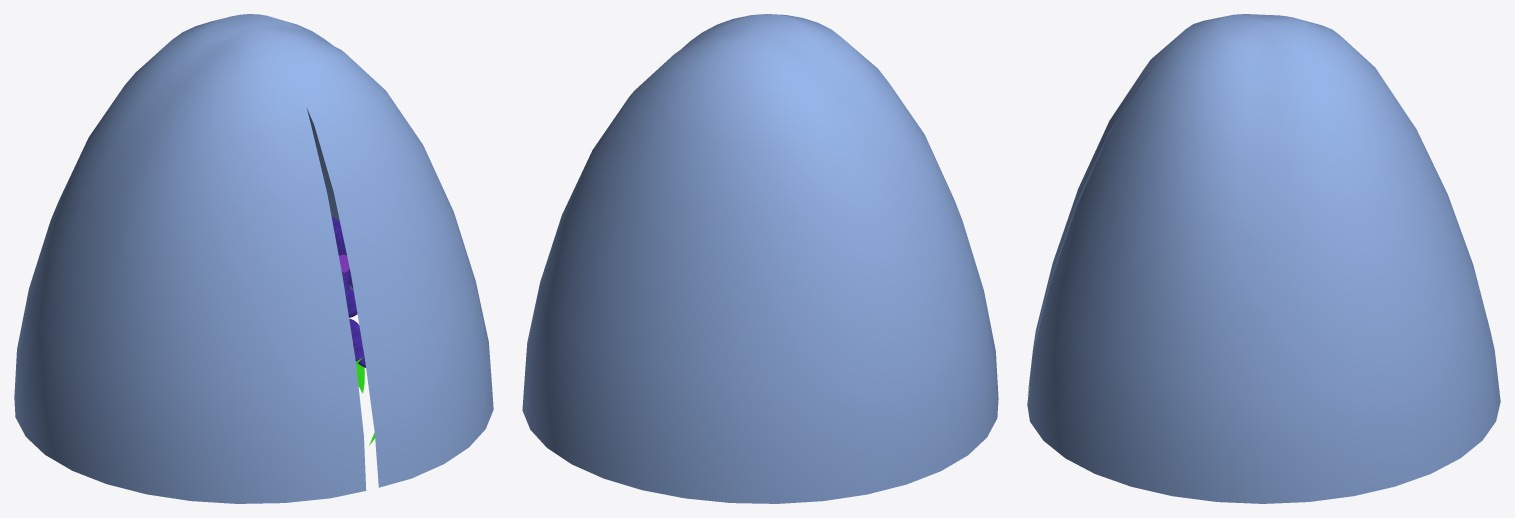
File: Ice_Flower_all.fbx
3 renders of one model, left to right at view 1: azimuth 30°, elevation 25°; view 2: azimuth 150°, elevation 25°; view 3: azimuth 270°, elevation 25°, orthographic.
Visible parts, largest first — view 1: Circle.002, Circle.003; view 2: Circle.002; view 3: Circle.002.
Boxes of the visible parts, x1,y1,x2,y2 form: Circle.002: [14, 14, 493, 503]; Circle.003: [331, 216, 353, 289]; Circle.002: [522, 14, 998, 503]; Circle.002: [1027, 14, 1500, 503].
Bounding box in the file's own units: 175 × 153 × 172.
3 materials, 1 textured.
